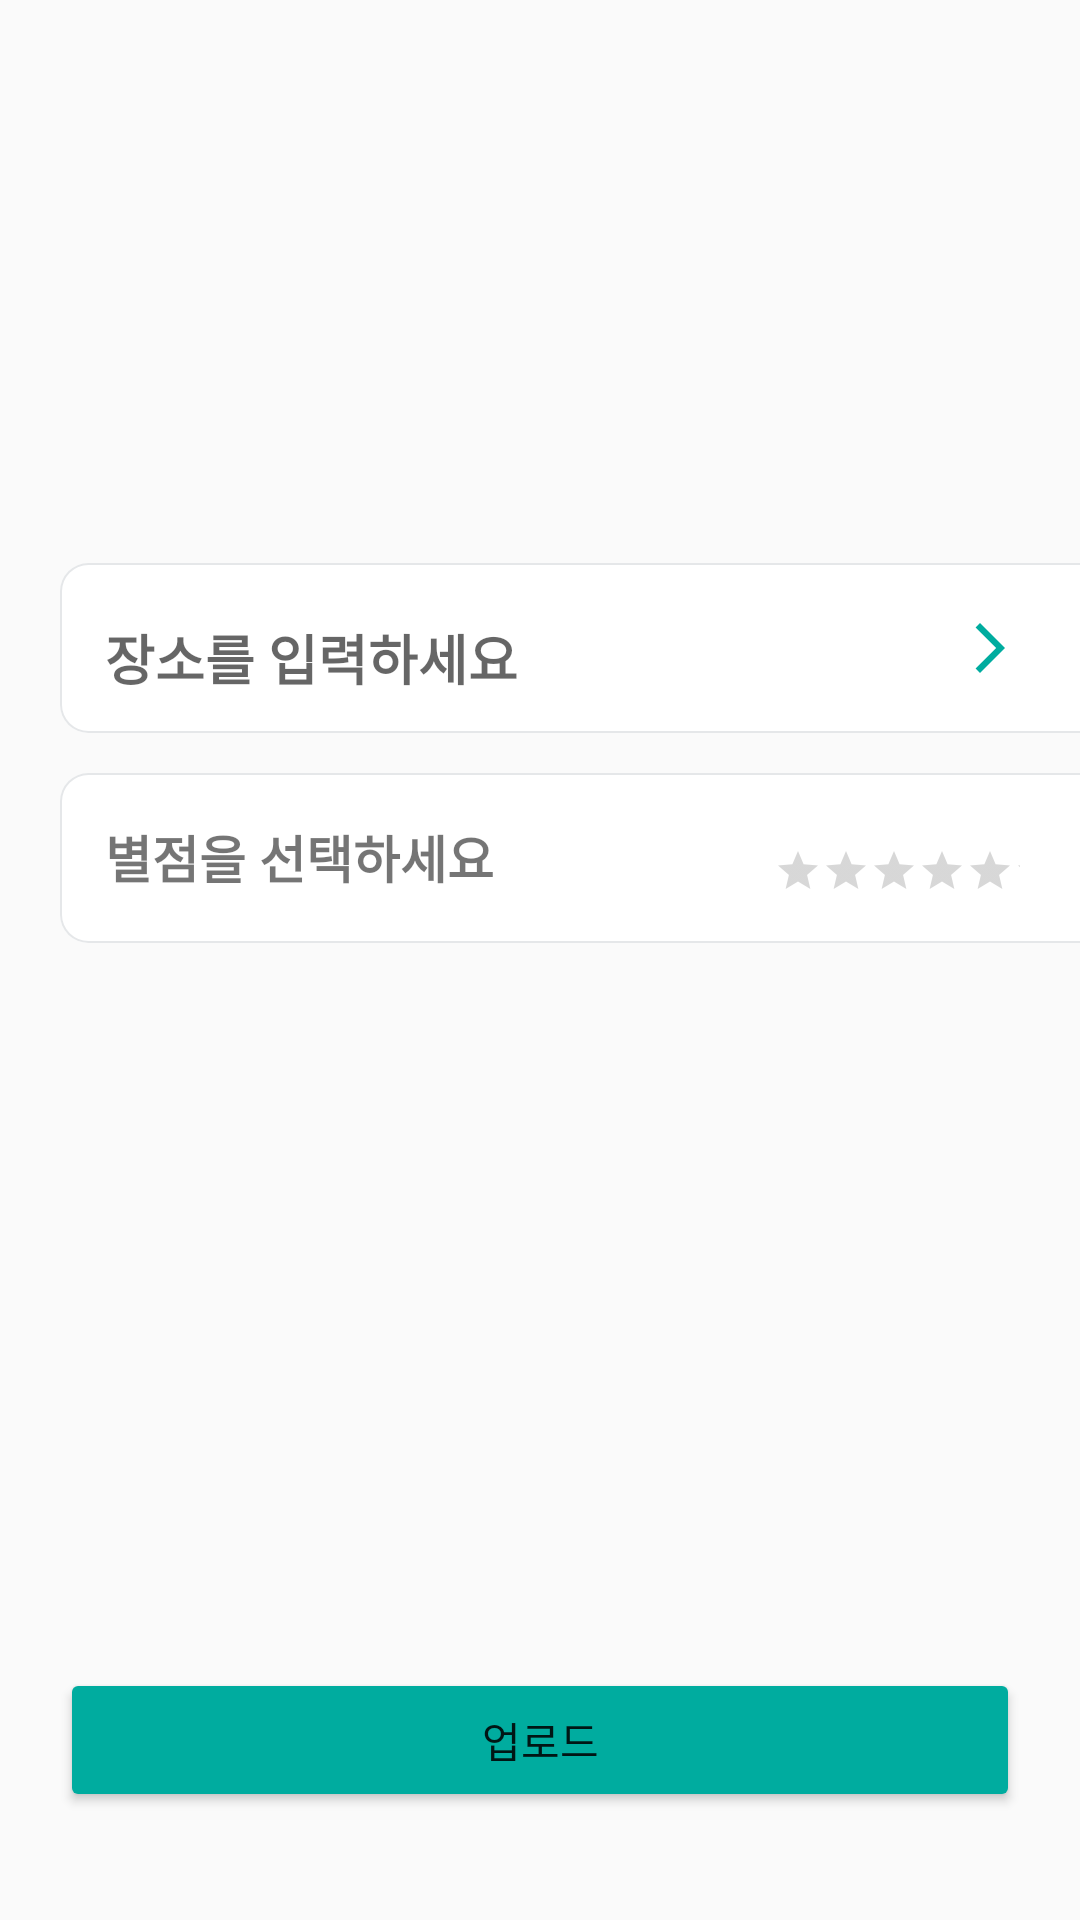

Point at icon controls on the screen. Image size 1080px x 1920px, points as (x,y).
arrow forward: (990,648)
